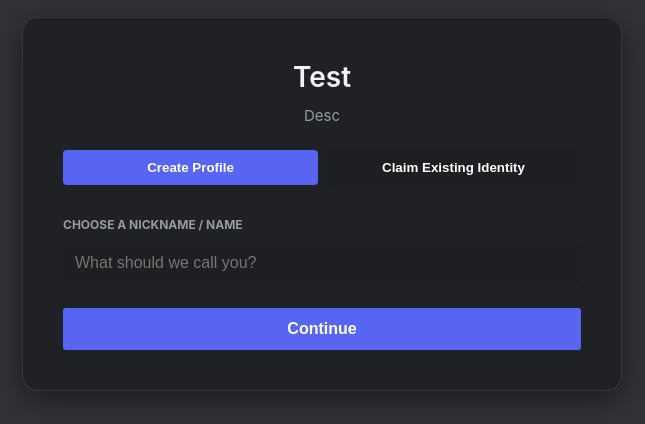
Test case: ProfileSetupUI Component › switches back to create tab from claim tab
Note: Switch to Claim
Click the button "Claim Existing Identity": coordinates (454, 168) top-left (326, 150), bottom-right (581, 185)
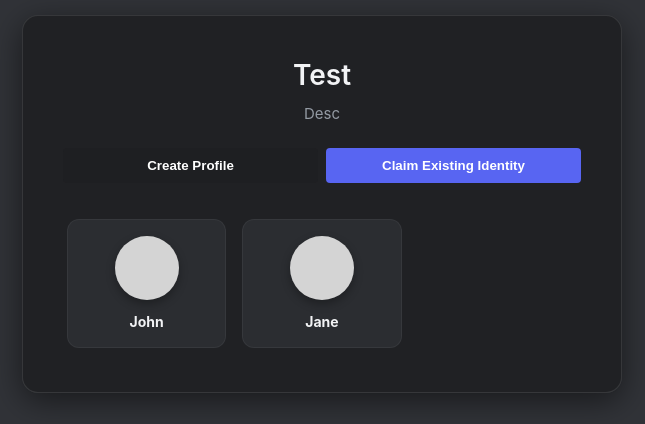
Check: the label with test id "fresh-nickname" is gone
Note: Switch back to Create
Click the button "Create Profile": coordinates (190, 165) top-left (63, 148), bottom-right (318, 183)
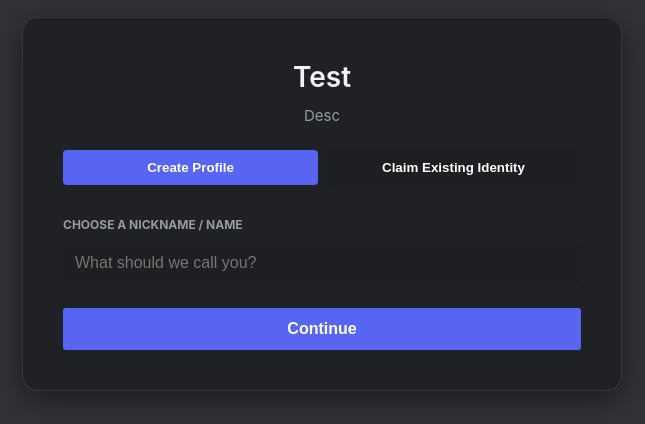
Check: the field with test id "fresh-nickname" is shown, box top-left (63, 242), bottom-right (581, 284)
